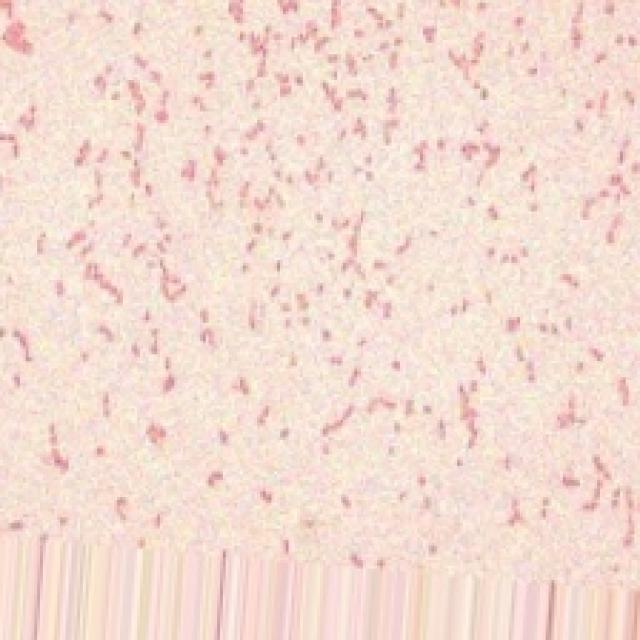Spiral_bacteria: (0, 0, 637, 589)
